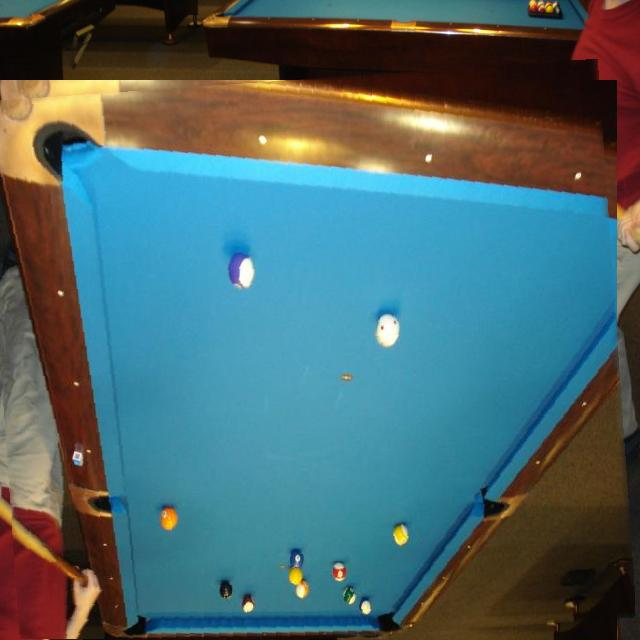Ball: (355, 433, 386, 474), (216, 366, 241, 402), (452, 198, 470, 224), (222, 167, 237, 191), (262, 102, 279, 122), (380, 109, 395, 131), (286, 136, 302, 156), (402, 128, 418, 147), (325, 122, 340, 142), (280, 110, 293, 132), (330, 137, 344, 155), (330, 153, 343, 172)
Billiard table: (0, 69, 626, 640)
